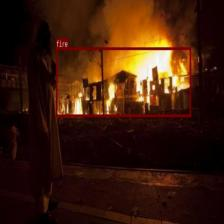fire: (56, 47, 190, 116)
